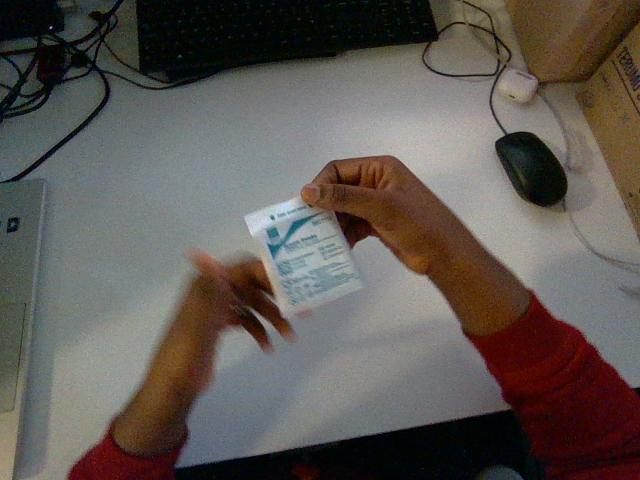gauze: (244, 197, 362, 316)
